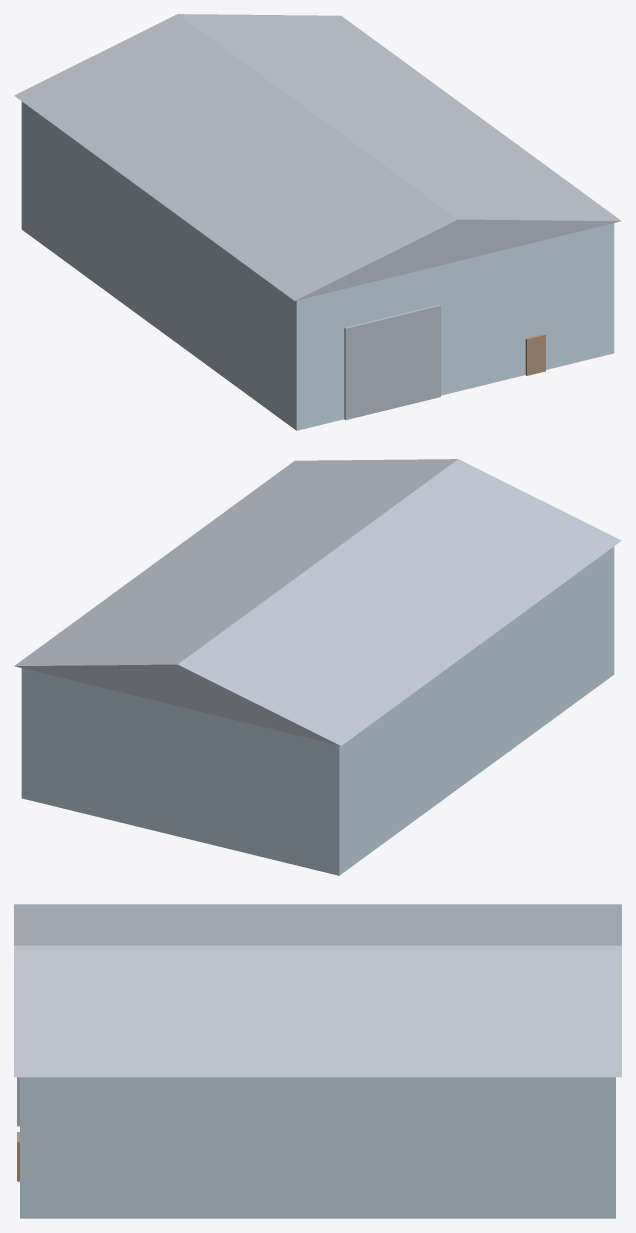
Rendered from warehouse.glb.
3 renders of one model, top to bottom at view 1: azimuth 30°, elevation 25°; view 2: azimuth 150°, elevation 25°; view 3: azimuth 270°, elevation 25°, orthographic. The views are drawn at different scales.
Parts seen in each view (by area): view 1: warehouse_metal, warehouse_wall_blue, warehouse_door; view 2: warehouse_metal, warehouse_wall_blue; view 3: warehouse_metal, warehouse_wall_blue.
Boxes of the visible parts, x1,y1,x2,y2 form: warehouse_metal: (14, 14, 621, 419); warehouse_wall_blue: (21, 101, 614, 430); warehouse_door: (525, 334, 545, 375); warehouse_metal: (14, 459, 621, 745); warehouse_wall_blue: (21, 546, 614, 875); warehouse_metal: (14, 904, 621, 1126); warehouse_wall_blue: (20, 1077, 615, 1218).
Size of the model in its own units: 20.6 by 10.5 by 30.6.
